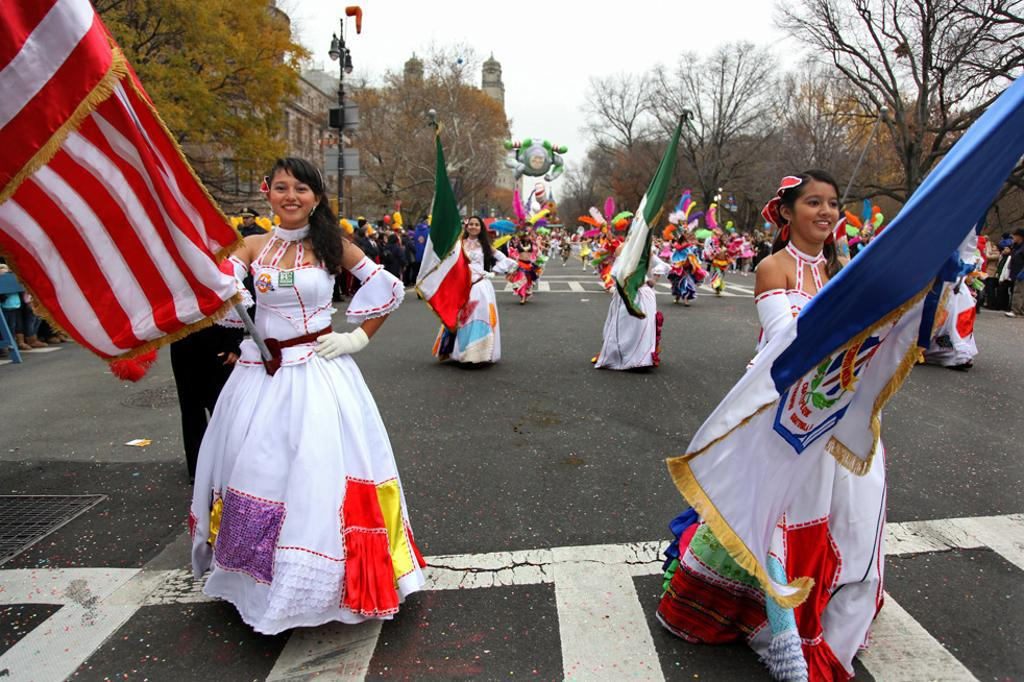face: (793, 182, 839, 240), (270, 168, 316, 222), (468, 219, 480, 234), (243, 216, 253, 226), (1014, 234, 1022, 242), (685, 232, 690, 239), (746, 234, 751, 241), (1006, 246, 1011, 252), (364, 223, 369, 229), (424, 218, 429, 224), (992, 246, 997, 251), (525, 235, 529, 240)
